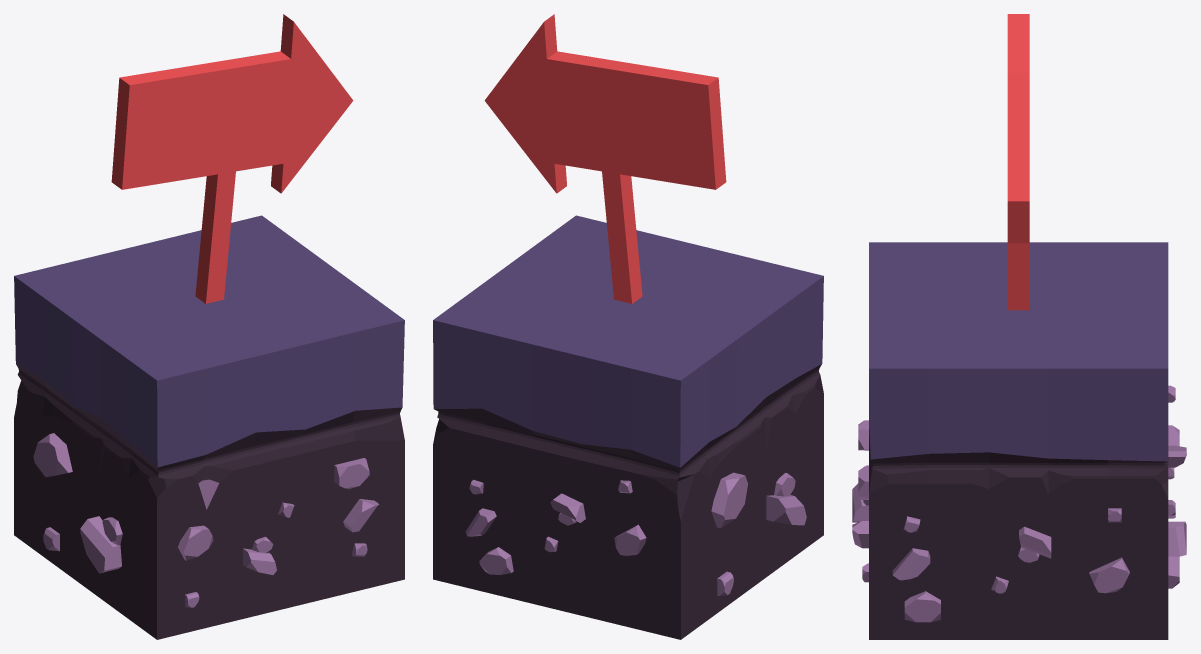
Rendered from ArrowTile.fbx.
The picture shows the model from 3 angles, left to right: view 1: azimuth 30°, elevation 25°; view 2: azimuth 150°, elevation 25°; view 3: azimuth 270°, elevation 25°; orthographic projection. The views are drawn at different scales.
Visible parts, largest first — view 1: Grass, Cube.001; view 2: Grass, Cube.001; view 3: Grass, Cube.001.
Part boxes in pixels (x1,y1,x2,y2): Grass: (14,215,404,639); Cube.001: (111,14,353,303); Grass: (433,215,823,639); Cube.001: (484,14,726,303); Grass: (852,242,1186,639); Cube.001: (1007,14,1029,310).
Size of the model in its own units: 228 by 401 by 224.
